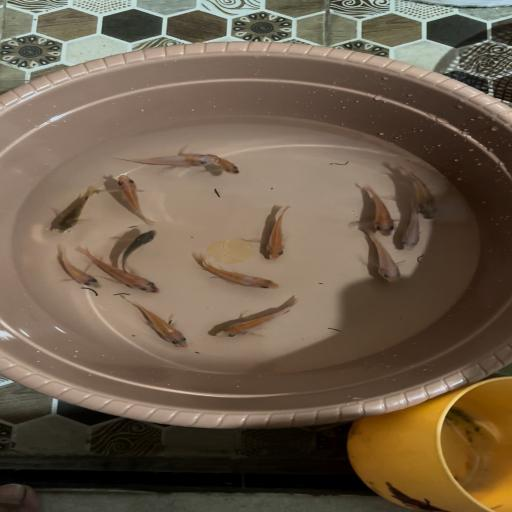nila: (210, 294, 305, 344), (350, 230, 411, 290), (38, 183, 105, 237), (187, 255, 284, 292), (84, 248, 162, 294), (102, 172, 166, 228), (122, 303, 192, 353), (254, 202, 302, 265), (398, 164, 448, 221), (355, 175, 401, 234), (38, 246, 100, 288), (183, 139, 244, 181), (387, 202, 434, 250), (114, 152, 220, 173), (117, 229, 169, 268)
